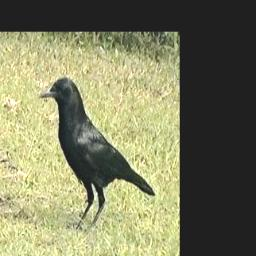Crow: (37, 77, 156, 232)
